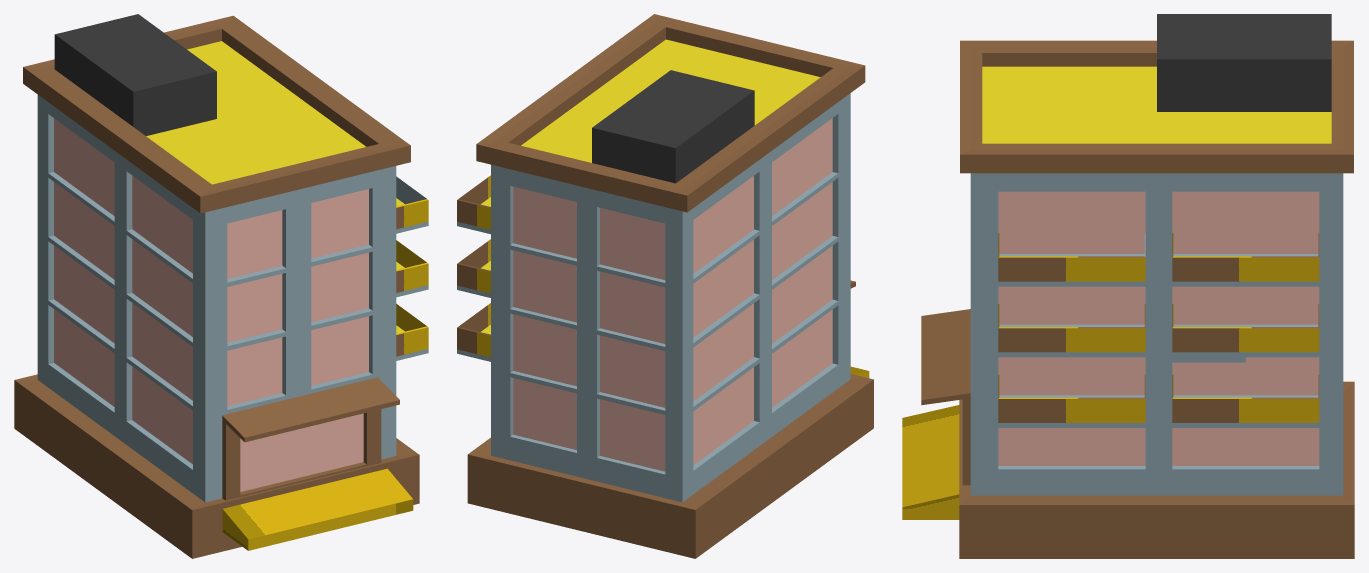
File: house_cartoon_3.glb
3 views of the same model, side by side, from view 1: azimuth 30°, elevation 25°; view 2: azimuth 150°, elevation 25°; view 3: azimuth 270°, elevation 25° (orthographic). The views are drawn at different scales.
Parts seen in each view (by area): view 1: House_World ap_0; view 2: House_World ap_0; view 3: House_World ap_0.
Part boxes in pixels (bbox=[...]): House_World ap_0: bbox=[14, 14, 428, 558]; House_World ap_0: bbox=[457, 14, 873, 558]; House_World ap_0: bbox=[902, 14, 1354, 558].
Bounding box in the file's own units: 2.42 × 3.59 × 3.36.
Materials: 1 (1 with a texture image).
